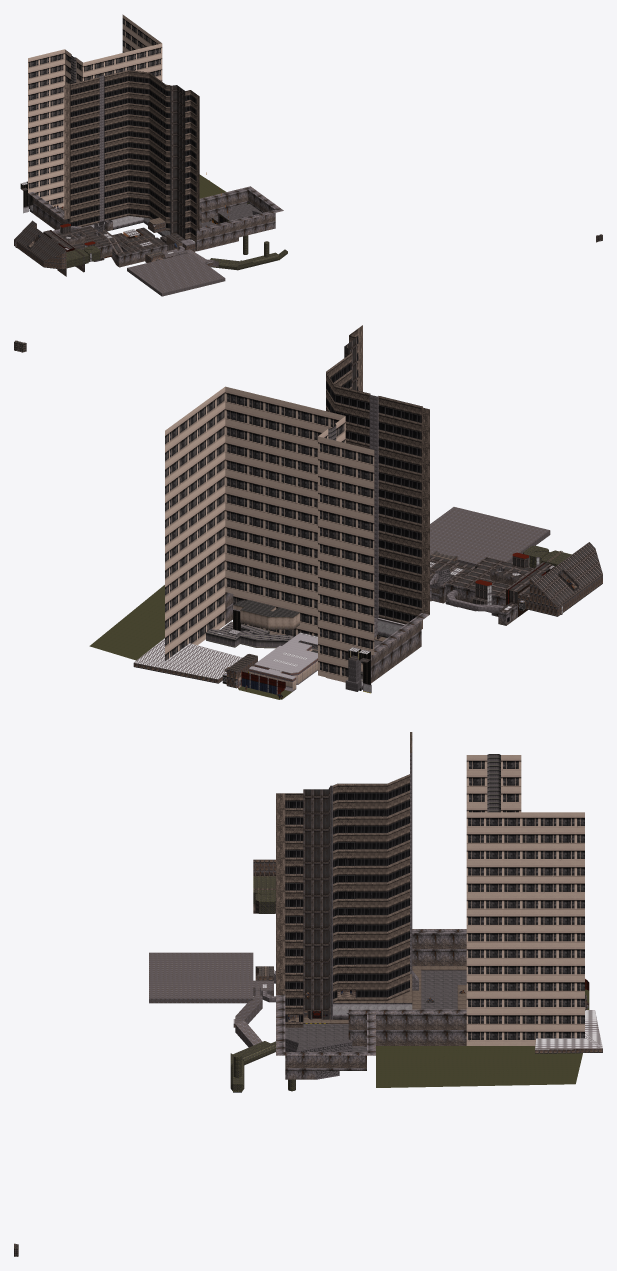
File: Level.fbx
The picture shows the model from 3 angles, top to bottom: view 1: azimuth 30°, elevation 25°; view 2: azimuth 150°, elevation 25°; view 3: azimuth 270°, elevation 25°; orthographic projection. The views are drawn at different scales.
Parts seen in each view (by area): view 1: E1L2; view 2: E1L2; view 3: E1L2.
Boxes of the visible parts, box(x1,y1,x2,y2) form: E1L2: box(14, 14, 602, 296); E1L2: box(14, 325, 602, 699); E1L2: box(14, 732, 602, 1256).
Bounding box in the file's own units: 8975 × 3150 × 6488.
181 materials, 181 textured.
